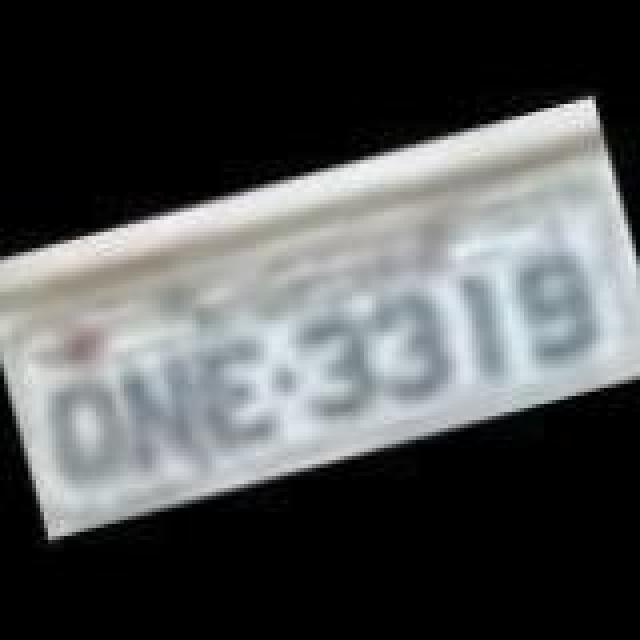1: (446, 268, 514, 380)
3: (356, 286, 460, 410), (282, 304, 382, 428)
9: (506, 240, 606, 368)
E: (188, 332, 288, 452)
N: (110, 346, 214, 474)
O: (30, 366, 134, 498)
